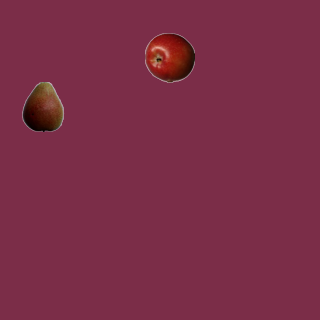Apple Braeburn: (144, 32, 194, 82)
Pear Forelle: (17, 81, 67, 131)
